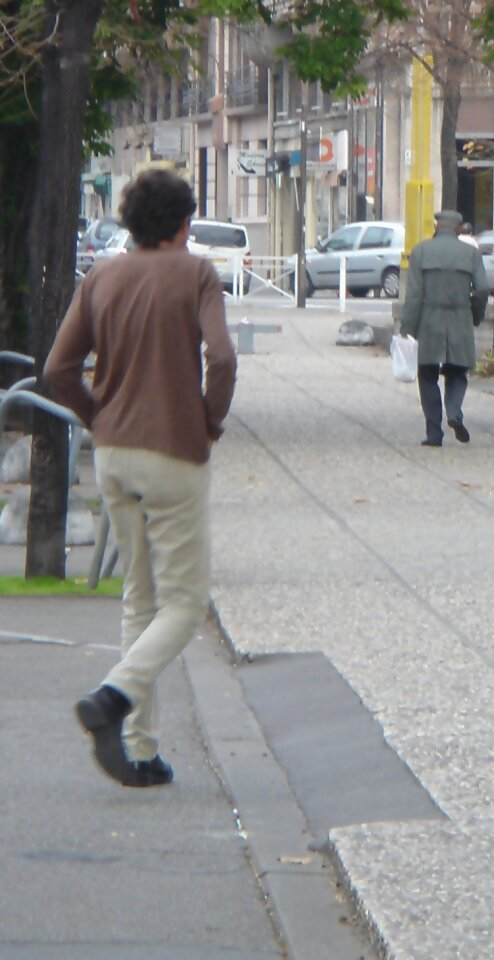person: (48, 164, 239, 797), (399, 205, 493, 457)
